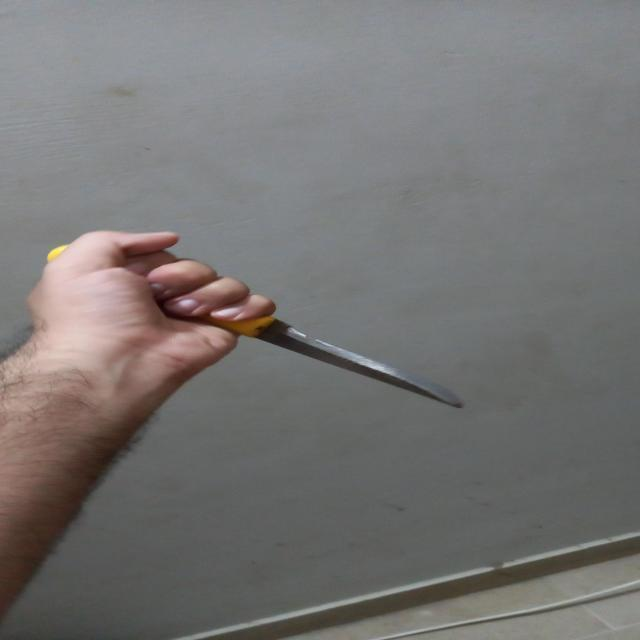faca: (47, 245, 464, 408)
